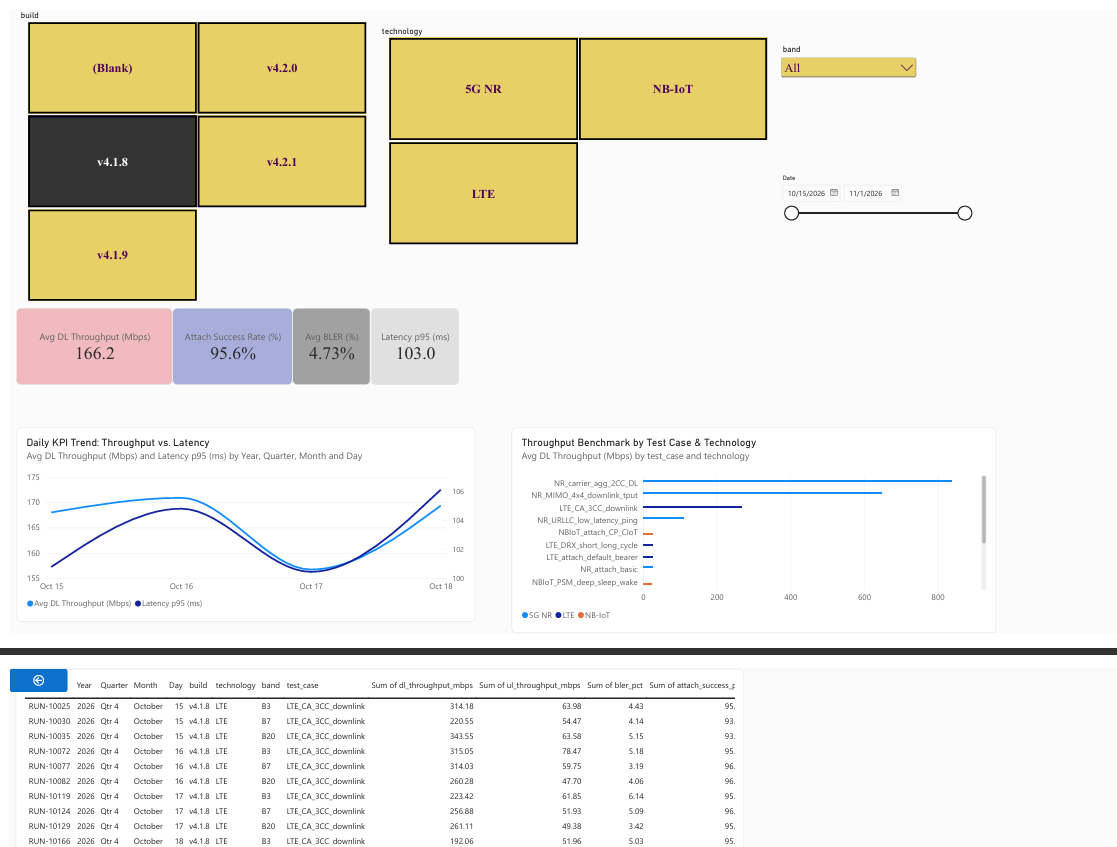

This screenshot's page, from the dashboard's own definition file:
{"tool":"powerbi","page":{"name":"Summary","canvas":[1920,1080],"ordinal":0},"visuals":[{"type":"slicer","fields":{"Values":["simulator_kpi_runs.build"]},"box":[10.9,0,626.1,504.9],"z":0},{"type":"slicer","fields":{"Values":["simulator_kpi_runs.technology"]},"box":[637,27.1,694.9,380],"z":1000},{"type":"slicer","fields":{"Values":["simulator_kpi_runs.band"]},"box":[1331.7,58.3,245,193.3],"z":2000},{"type":"slicer","fields":{"Values":["Dim_Calendar.Date"]},"box":[1331.7,283.3,340,123.3],"z":3000},{"type":"cardVisual","fields":{"Data":["_Measures (2).Avg DL Throughput (Mbps)"]},"box":[10.9,515.8,271.4,133.9],"z":4000},{"type":"cardVisual","fields":{"Data":["_Measures (2).Attach Success Rate (%)"]},"box":[282.3,515.8,208.1,133.9],"z":5000},{"type":"cardVisual","fields":{"Data":["_Measures (2).Avg BLER (%)"]},"box":[490.4,515.8,135.7,133.9],"z":6000},{"type":"cardVisual","fields":{"Data":["_Measures (2).Latency p95 (ms)"]},"box":[626.1,515.8,153.8,133.9],"z":7000},{"type":"lineChart","title":"Daily KPI Trend: Throughput vs. Latency","fields":{"Category":["simulator_kpi_runs.run_time.Variation.Date Hierarchy.Year","simulator_kpi_runs.run_time.Variation.Date Hierarchy.Quarter","simulator_kpi_runs.run_time.Variation.Date Hierarchy.Month","simulator_kpi_runs.run_time.Variation.Date Hierarchy.Day"],"Y":["_Measures (2).Avg DL Throughput (Mbps)"],"Y2":["_Measures (2).Latency p95 (ms)"]},"box":[11.7,723.3,795,336.7],"z":8000},{"type":"clusteredBarChart","title":"Throughput Benchmark by Test Case & Technology","fields":{"Category":["simulator_kpi_runs.test_case"],"Series":["simulator_kpi_runs.technology"],"Y":["_Measures (2).Avg DL Throughput (Mbps)"]},"box":[870,723.3,840,356.7],"z":9000}]}

Visuals, with their boxes on the page's 1920x1080 design canvas (x1, y1, x2, y2). These are canvas units, not pixel positions in the 1117x847 screenshot, which may show the page scaled, cropped or inside an application window:
slicer - simulator_kpi_runs.build: Rect(11, 0, 637, 505)
slicer - simulator_kpi_runs.technology: Rect(637, 27, 1332, 407)
slicer - simulator_kpi_runs.band: Rect(1332, 58, 1577, 252)
slicer - Dim_Calendar.Date: Rect(1332, 283, 1672, 407)
cardVisual - _Measures (2).Avg DL Throughput (Mbps): Rect(11, 516, 282, 650)
cardVisual - _Measures (2).Attach Success Rate (%): Rect(282, 516, 490, 650)
cardVisual - _Measures (2).Avg BLER (%): Rect(490, 516, 626, 650)
cardVisual - _Measures (2).Latency p95 (ms): Rect(626, 516, 780, 650)
"Daily KPI Trend: Throughput vs. Latency" lineChart: Rect(12, 723, 807, 1060)
"Throughput Benchmark by Test Case & Technology" clusteredBarChart: Rect(870, 723, 1710, 1080)
